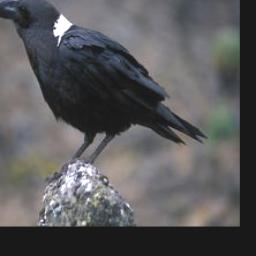Crow: (0, 0, 209, 186)
